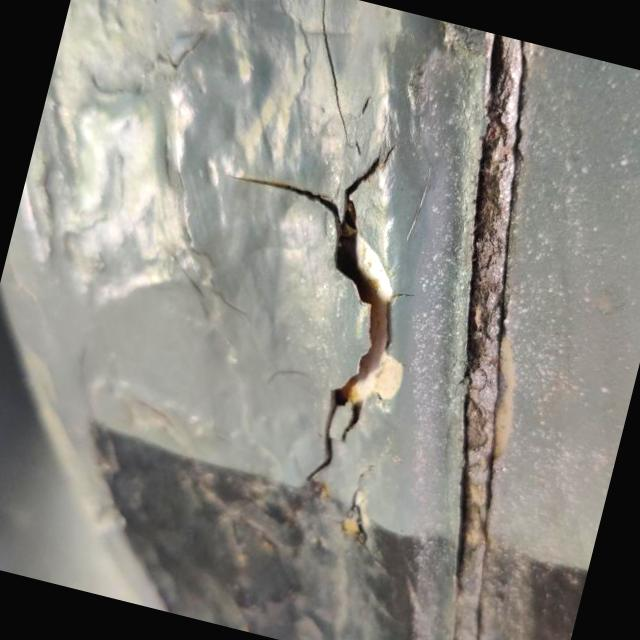crack: (138, 90, 464, 524)
